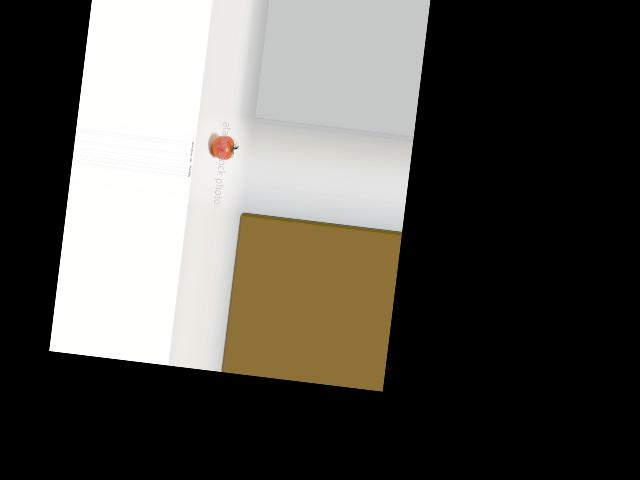tomato: (210, 134, 235, 161)
